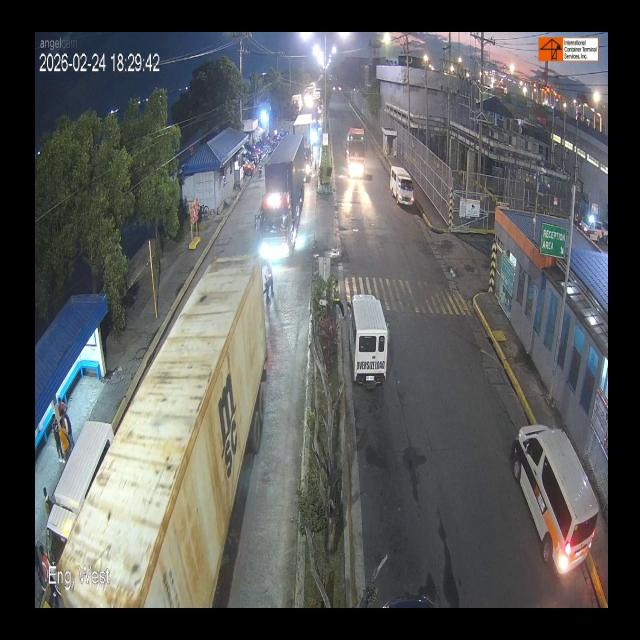car: (512, 417, 596, 580), (352, 291, 387, 394), (383, 159, 416, 227)
truck: (56, 262, 278, 600), (251, 120, 307, 259), (345, 126, 369, 193)
